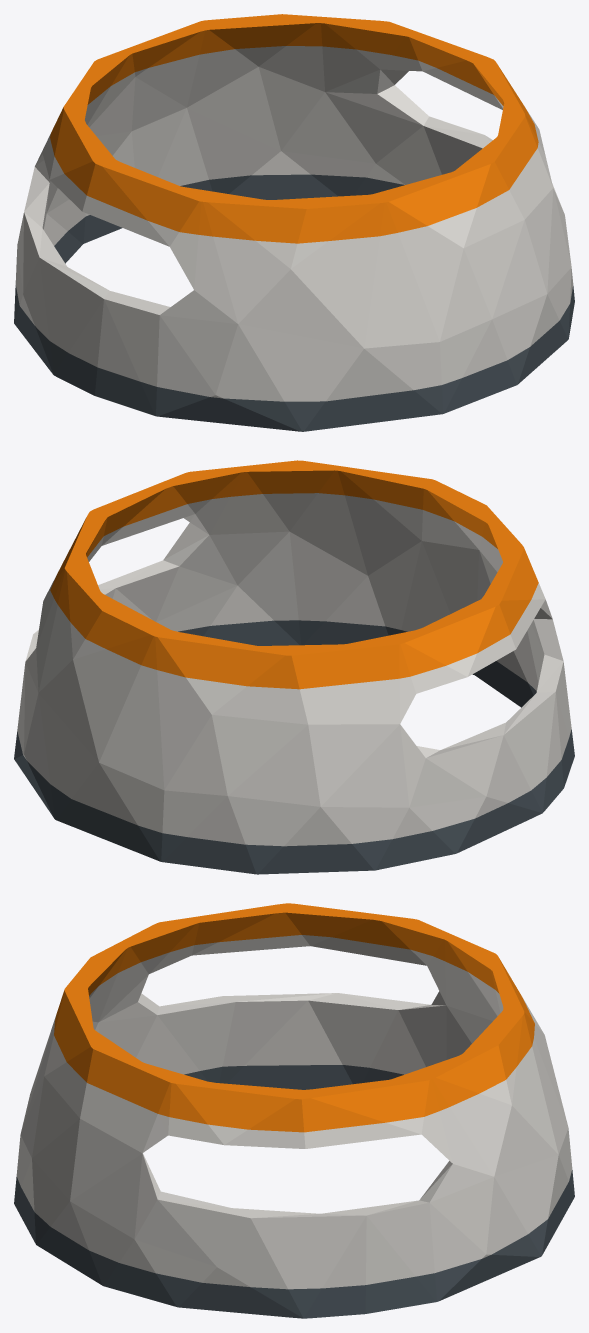
The model's file is luke_g.glb.
3 views of the same model, one above another, from view 1: azimuth 30°, elevation 25°; view 2: azimuth 150°, elevation 25°; view 3: azimuth 270°, elevation 25° (orthographic).
Parts seen in each view (by area): view 1: parte_16; view 2: parte_16; view 3: parte_16.
Part boxes in pixels (x1,y1,x2,y2): parte_16: (14,14,574,431); parte_16: (14,460,574,874); parte_16: (14,903,574,1318).
Bounding box in the file's own units: 0.2142 × 0.0837 × 0.214.
